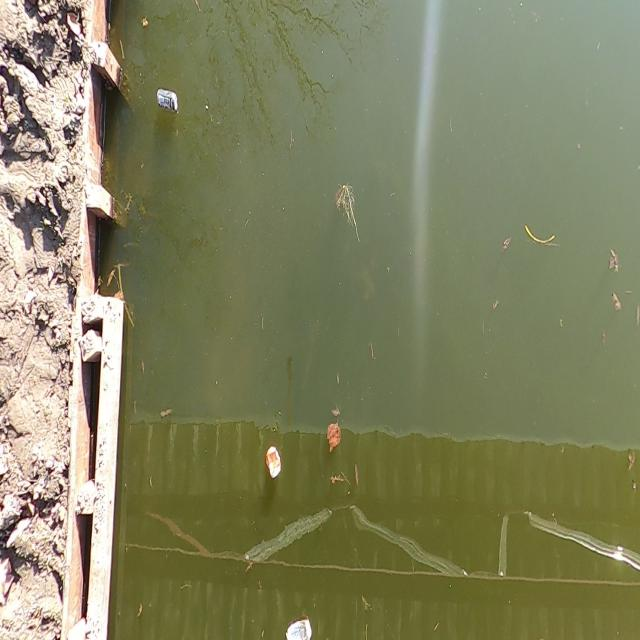Non plastique: (151, 82, 180, 126), (262, 443, 284, 486), (287, 612, 316, 640)
